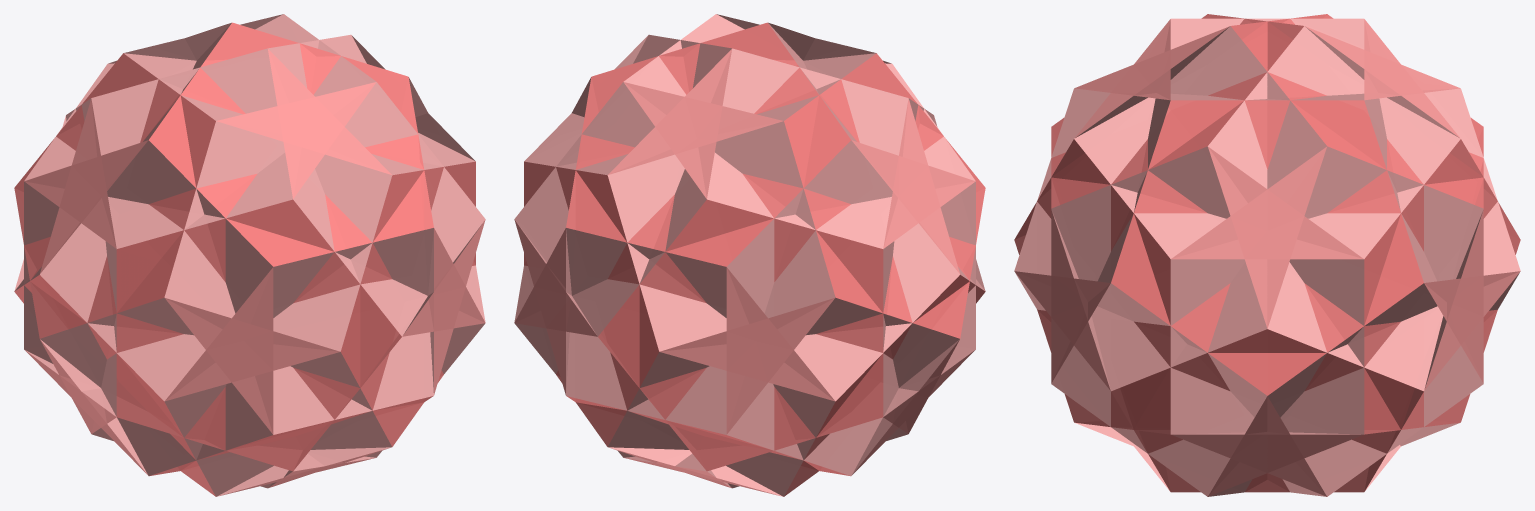
File: Icosidodecadodecahedron.obj
3 renders of one model, left to right at view 1: azimuth 30°, elevation 25°; view 2: azimuth 150°, elevation 25°; view 3: azimuth 270°, elevation 25°, orthographic. The views are drawn at different scales.
Size of the model in its own units: 2.62 by 2.62 by 2.62.
